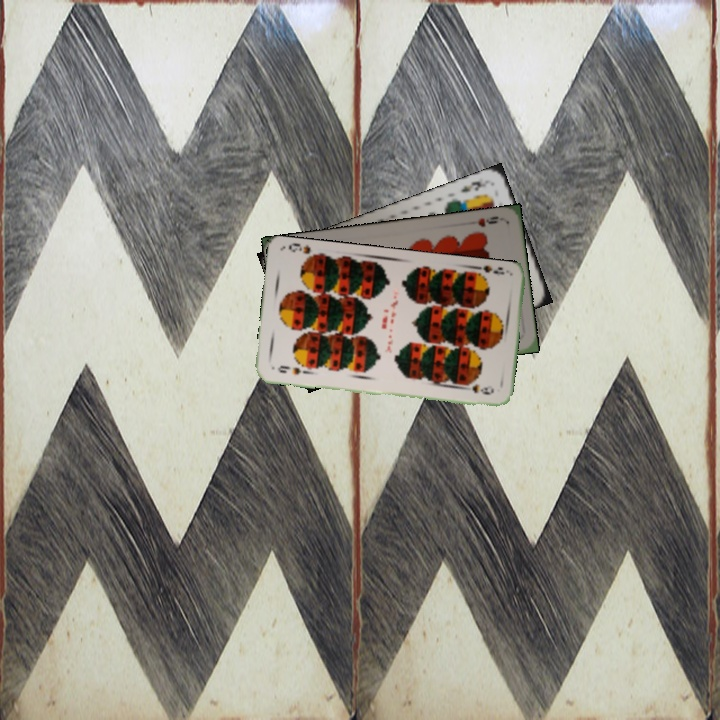EK: (457, 177, 484, 195)
H9: (474, 212, 501, 230)
S9: (469, 262, 507, 282), (273, 361, 310, 377)
